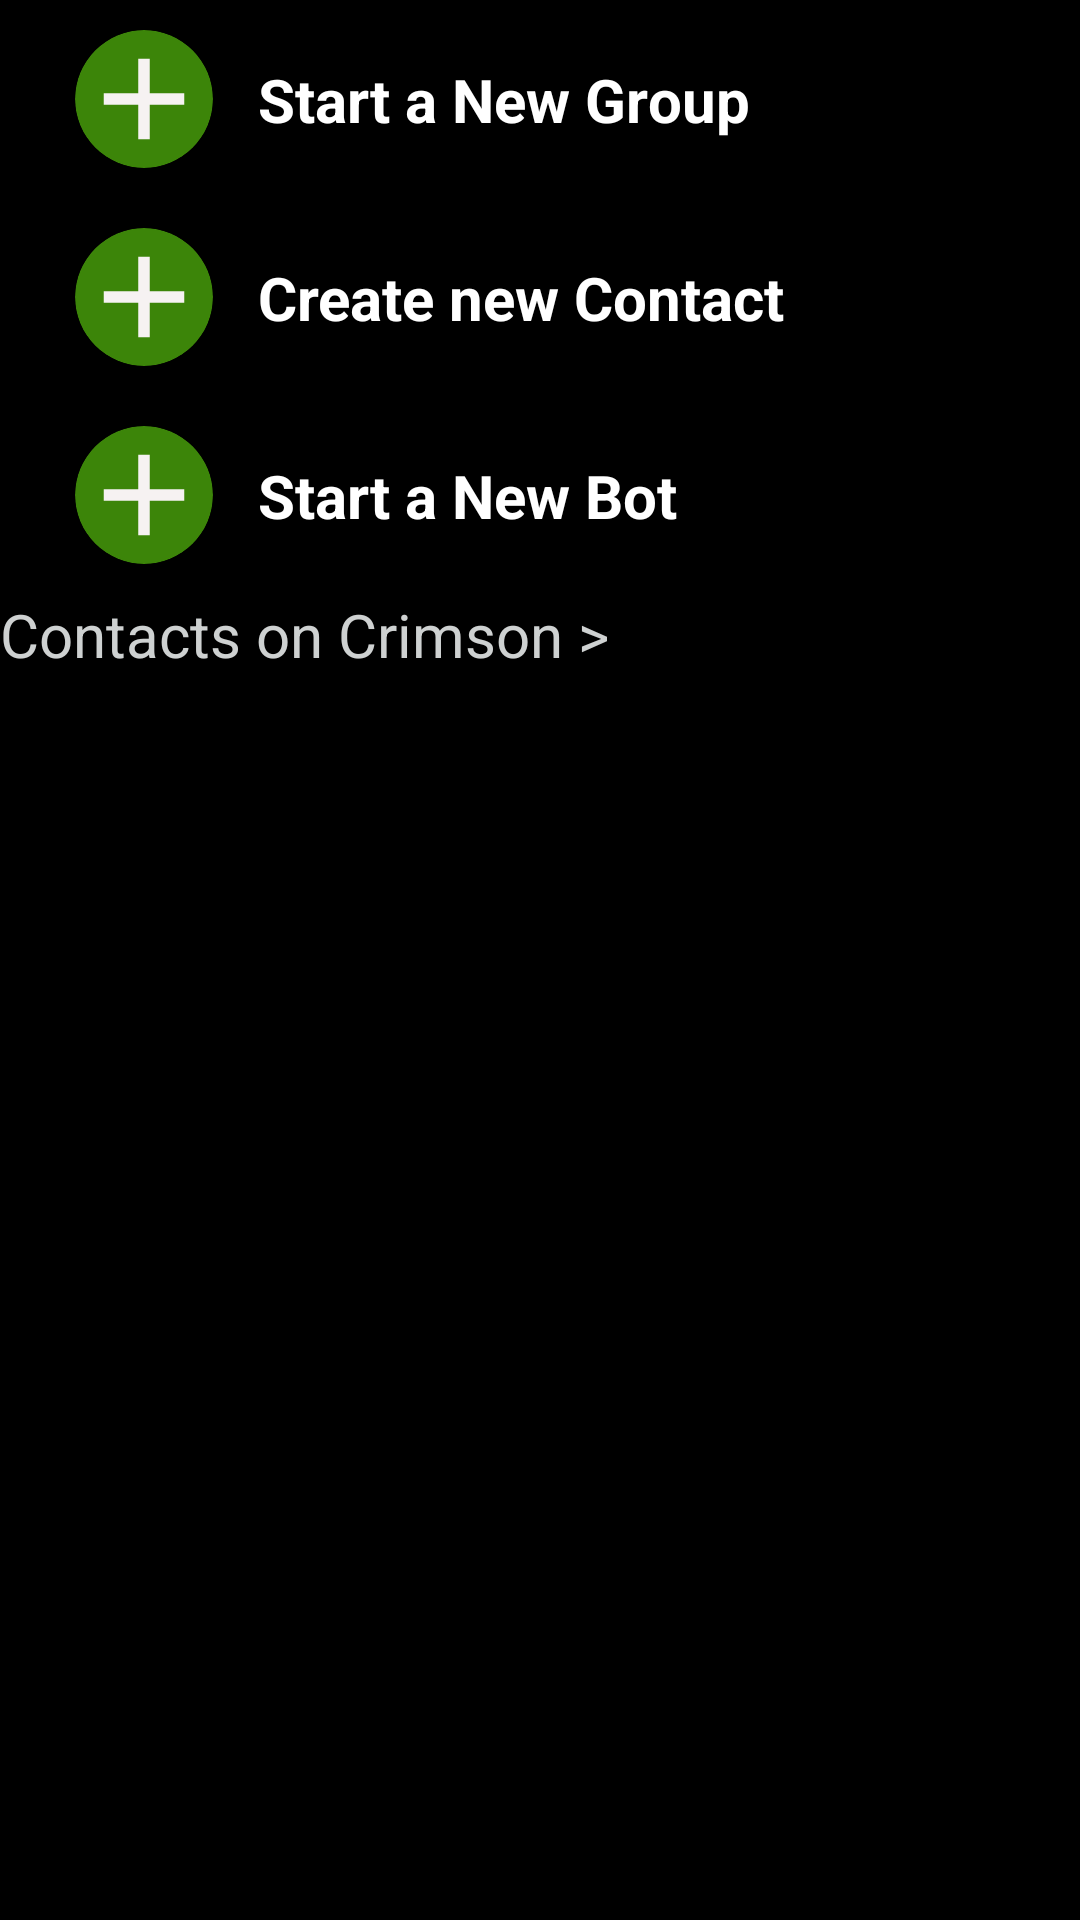

Named icons in this screenshot (1080px x 1920px) and their bounding boxes, (x1, y1, x2, y2):
add: (75, 30, 213, 168), (75, 228, 213, 366), (75, 426, 213, 564)
